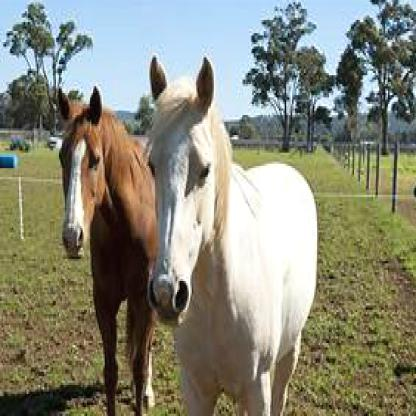horse: (142, 53, 318, 414), (52, 84, 156, 414)
